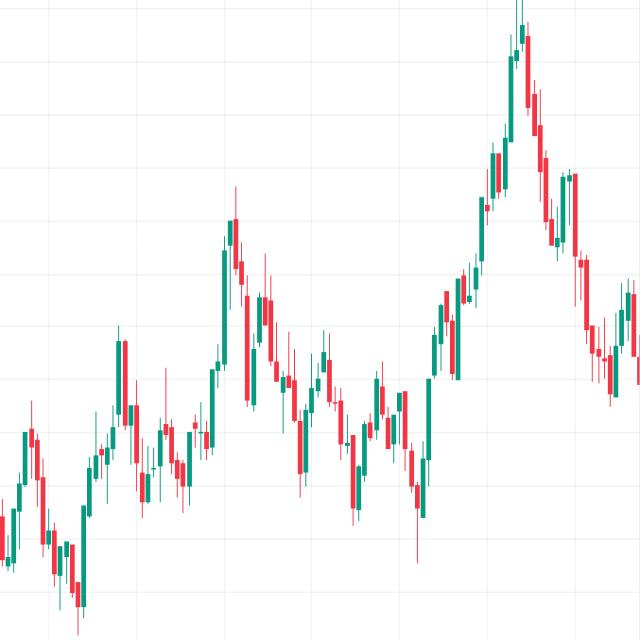Triple-Bottom: (285, 368, 442, 534)
